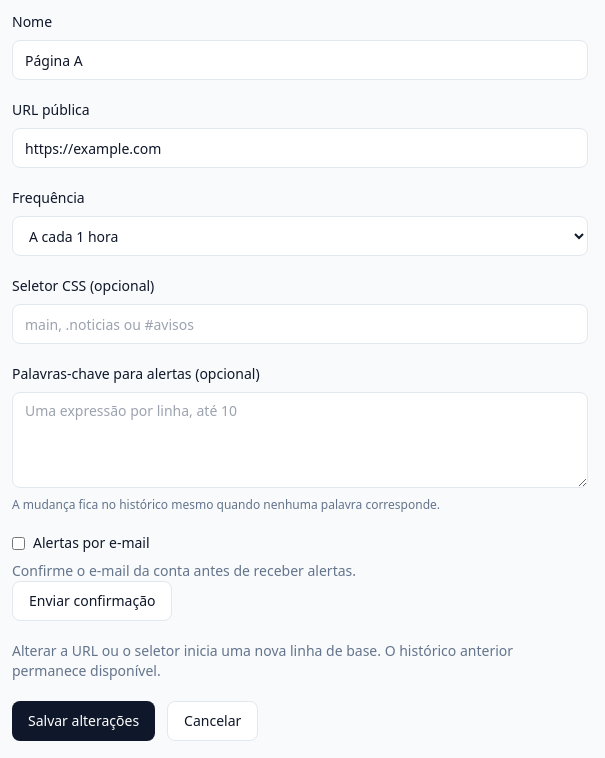
Scenario: automatic refresh › accepts an empty confirmation response and updates the button
Click the button "Enviar confirmação" at (92, 601), box x1=12 y1=581 x2=172 y2=621
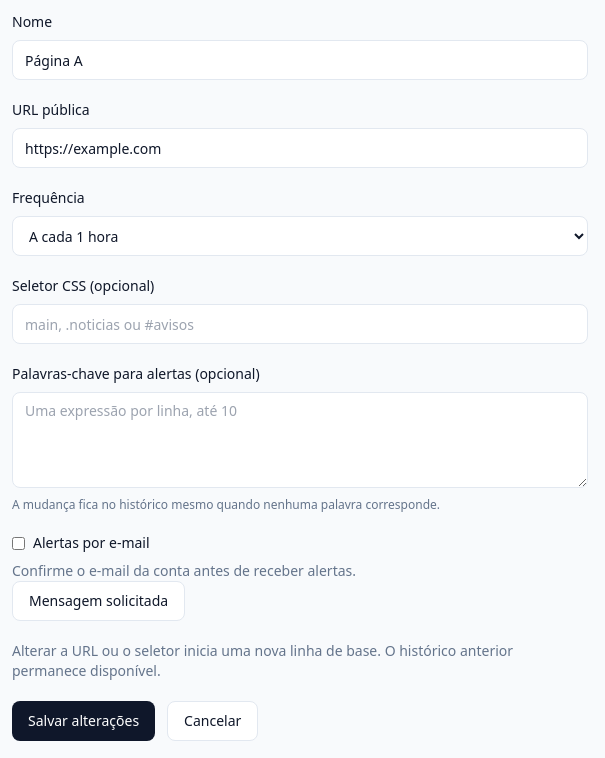
Now the button "Mensagem solicitada" is shown, box x1=12 y1=581 x2=185 y2=621
